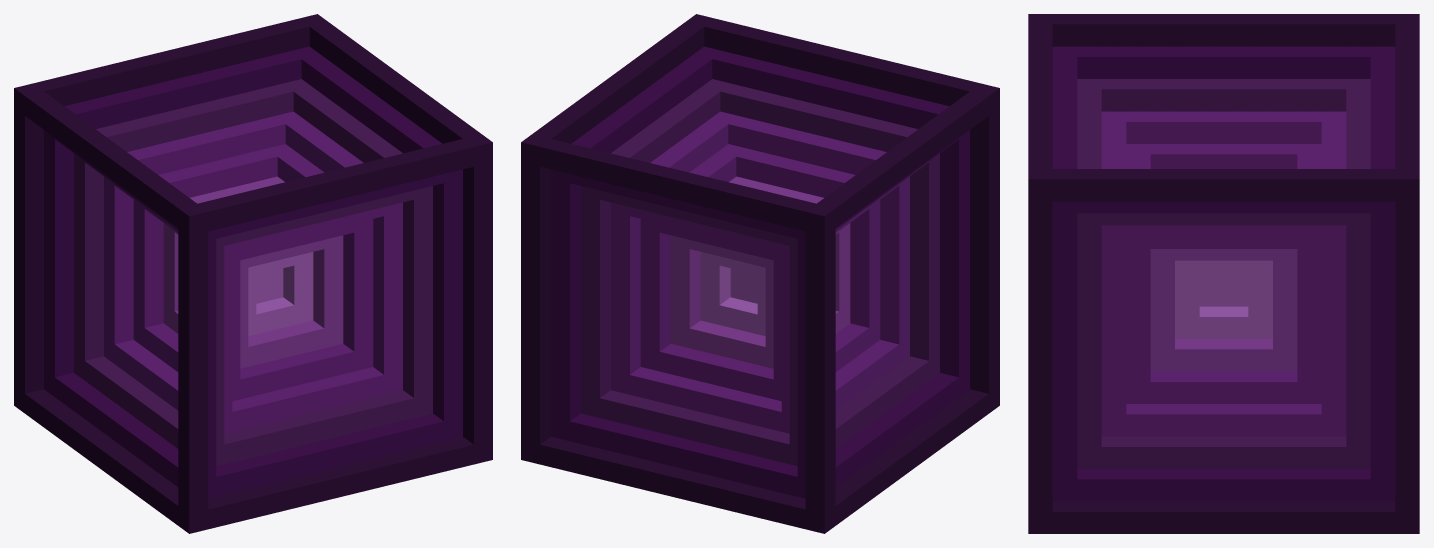
File: purple_cube.glb
The picture shows the model from 3 angles, left to right: view 1: azimuth 30°, elevation 25°; view 2: azimuth 150°, elevation 25°; view 3: azimuth 270°, elevation 25°; orthographic projection. The views are drawn at different scales.
Parts seen in each view (by area): view 1: Object_4; view 2: Object_4; view 3: Object_4.
Boxes of the visible parts, x1,y1,x2,y2 form: Object_4: [14, 14, 492, 533]; Object_4: [521, 14, 999, 533]; Object_4: [1028, 14, 1419, 533].
Bounding box in the file's own units: 3.49 × 3.49 × 3.49.
1 material, 1 textured.
